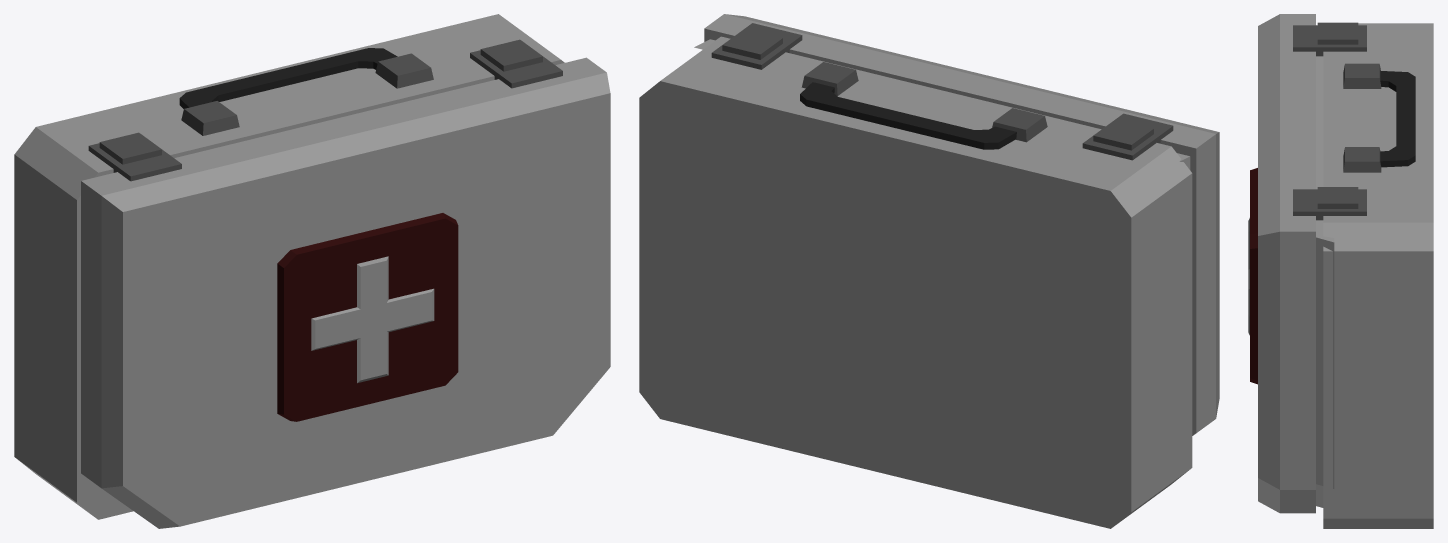
Rendered from medkit.glb.
3 renders of one model, left to right at view 1: azimuth 30°, elevation 25°; view 2: azimuth 150°, elevation 25°; view 3: azimuth 270°, elevation 25°, orthographic. The views are drawn at different scales.
Visible parts, largest first — view 1: item_medkit; view 2: item_medkit; view 3: item_medkit.
Boxes of the visible parts, x1,y1,x2,y2 form: item_medkit: (14,14,610,528); item_medkit: (639,14,1219,528); item_medkit: (1248,14,1433,528).
Bounding box in the file's own units: 0.36 × 0.2441 × 0.1294.
